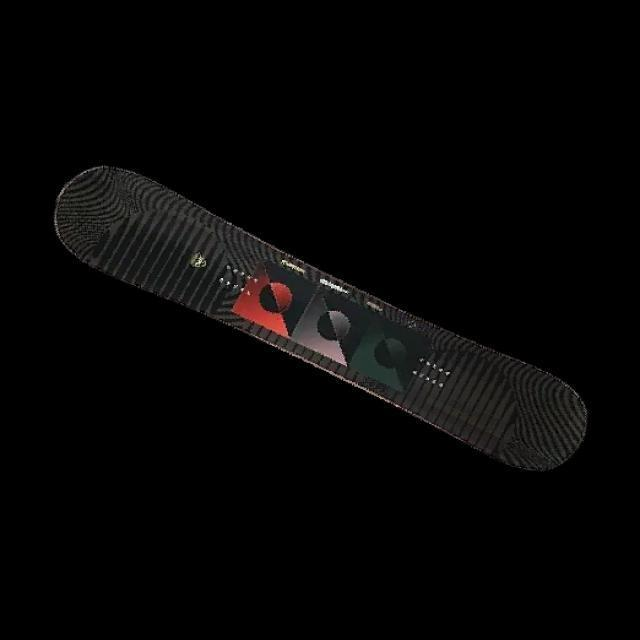Snowboard: (52, 163, 588, 473)
